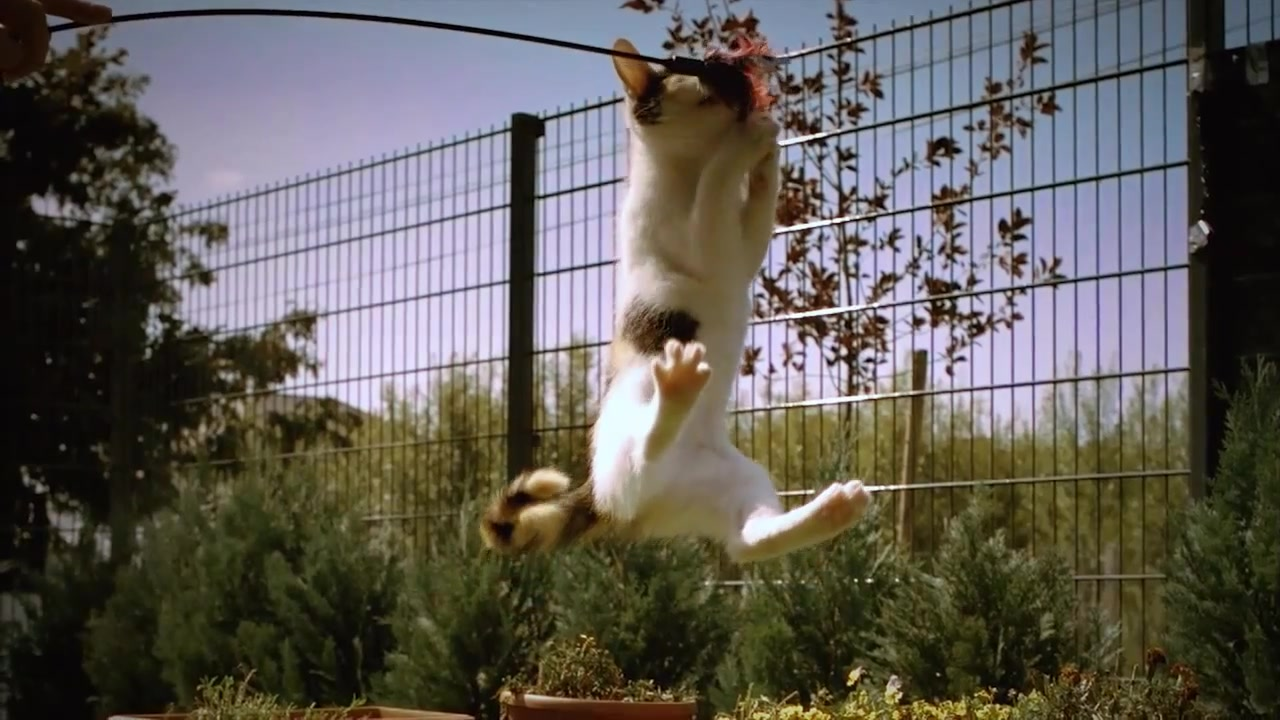cat: (480, 37, 879, 568)
